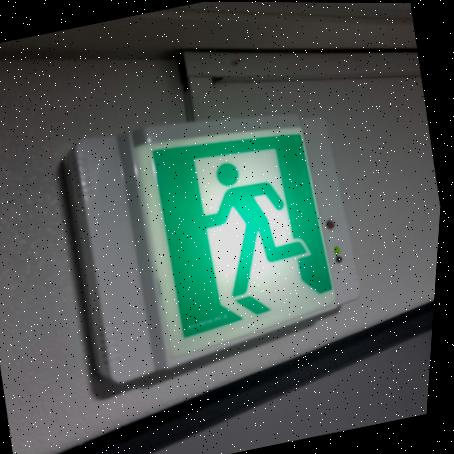emergency_exit: (124, 120, 345, 368)
